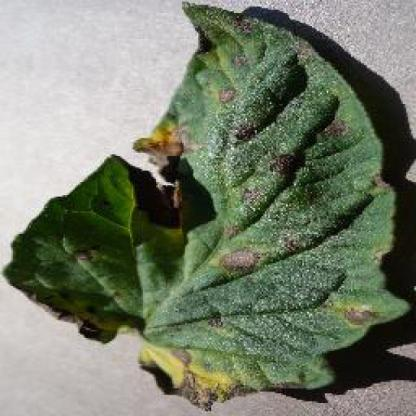Tomato_Blight: (15, 4, 392, 404)
